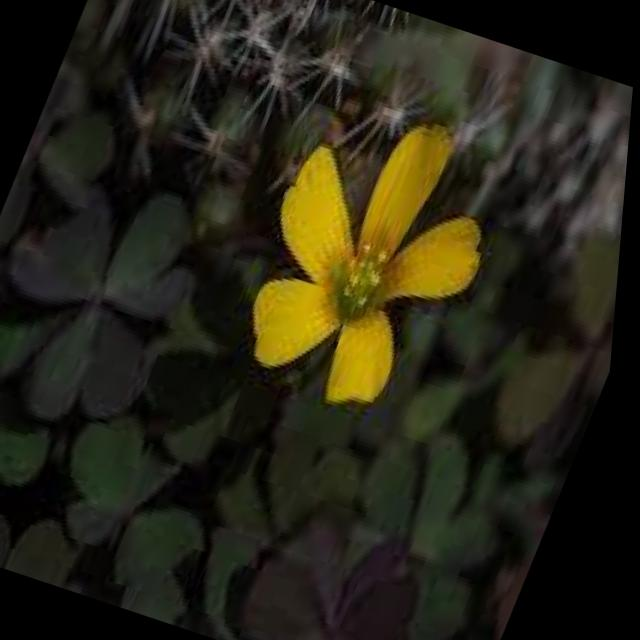Flower: (204, 75, 539, 428)
